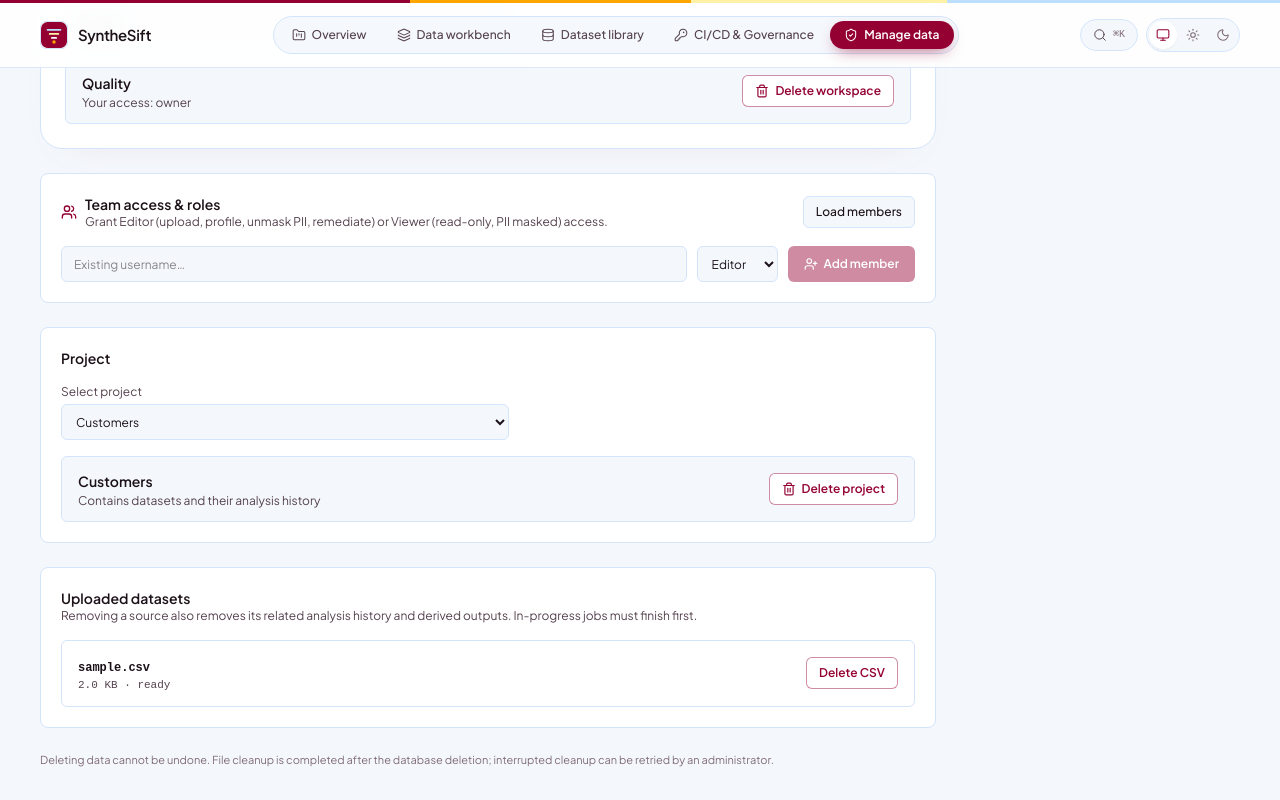
Scenario: ResourceManagement › requires typing the exact file name before deleting
Later steps or results of the test are not shown.
(page scrolled)
Click the button "Delete CSV" at (852,673), box [806,657,898,689]
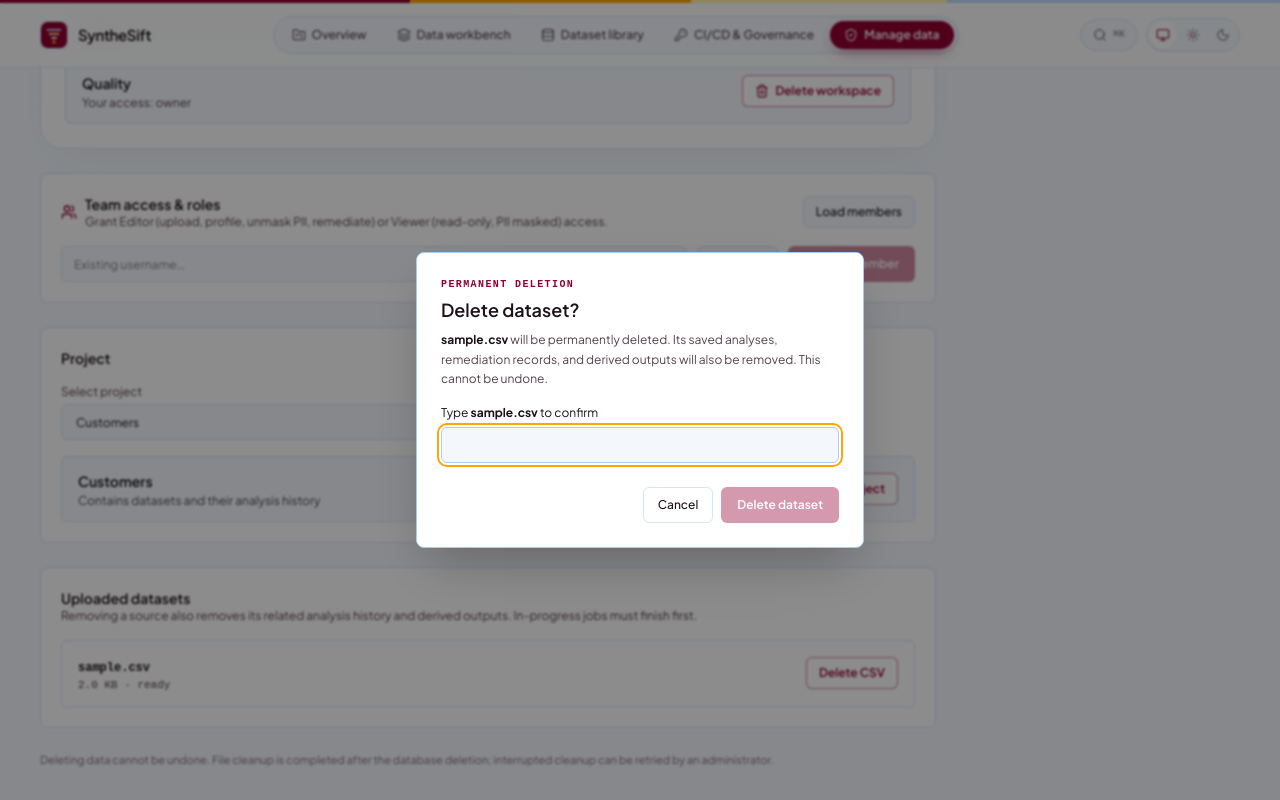
expect the button "Delete dataset" is disabled: met, box [721,487,839,523]
Type "wrong.csv" into the field labelled "Type sample.csv to confirm" at (640,445), box [441,427,839,463]
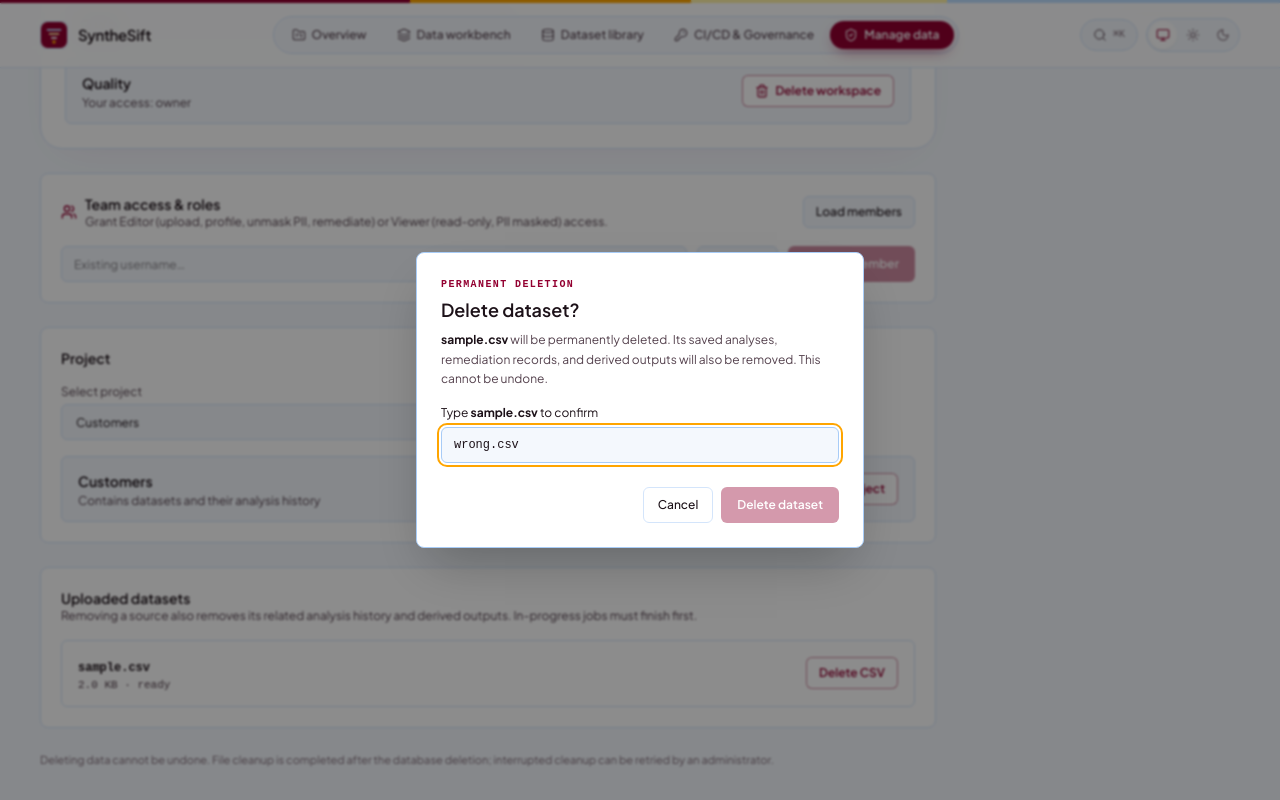
expect the button "Delete dataset" is disabled: met, box [721,487,839,523]
Replace the text in the field labelled "Type sample.csv to confirm" with "sample.csv" at (640,445), box [441,427,839,463]
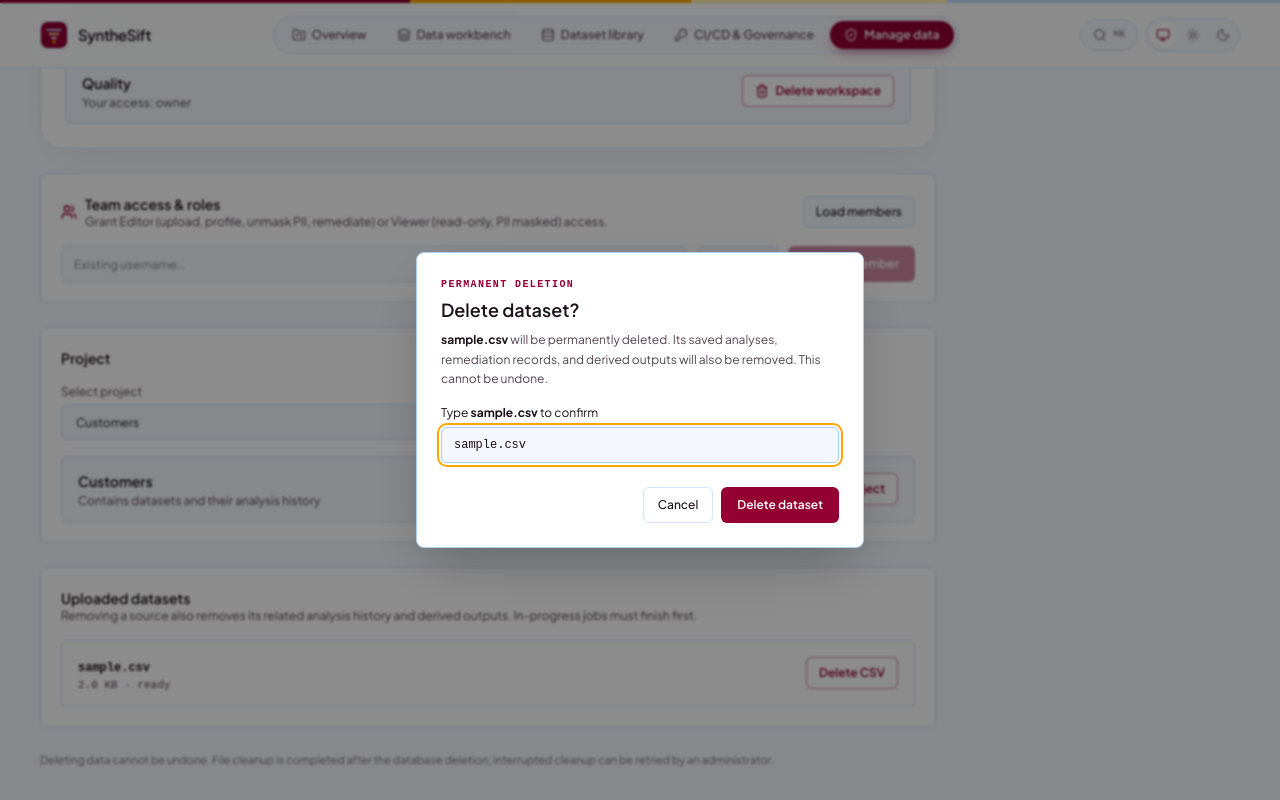
expect the button "Delete dataset" is enabled: met, box [721,487,839,523]
